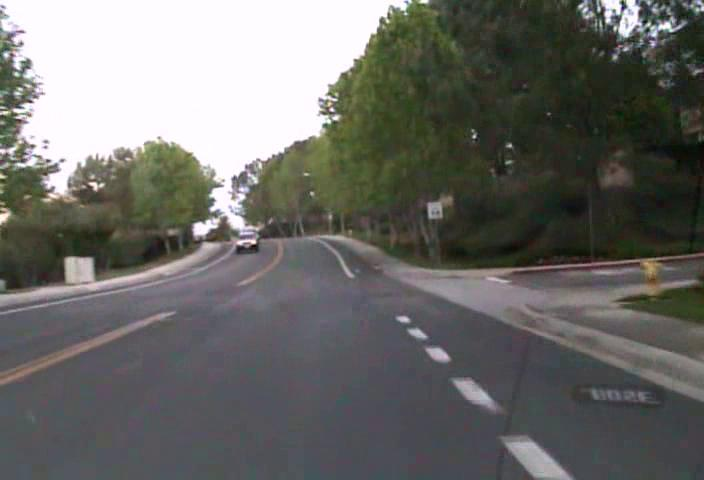speedLimitUrdbl: (426, 199, 443, 220)
